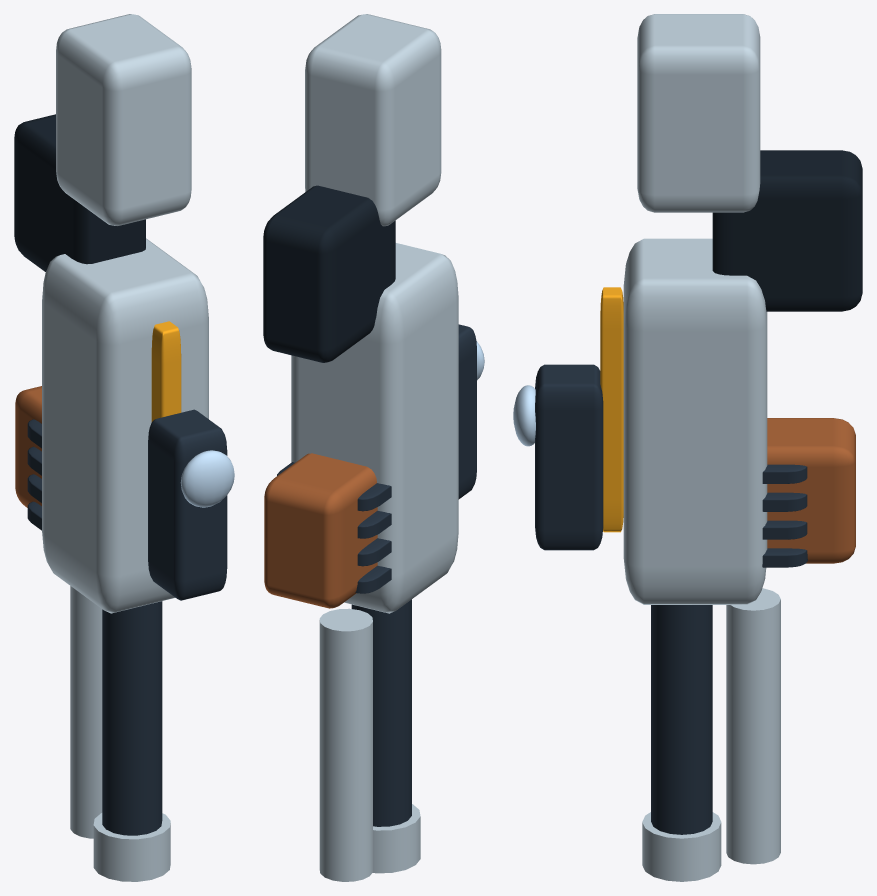
Rendered from shotgun-1.glb.
The picture shows the model from 3 angles, left to right: view 1: azimuth 30°, elevation 25°; view 2: azimuth 150°, elevation 25°; view 3: azimuth 270°, elevation 25°; orthographic projection.
Bounding box in the file's own units: 0.1928 × 1.37 × 0.5197.
